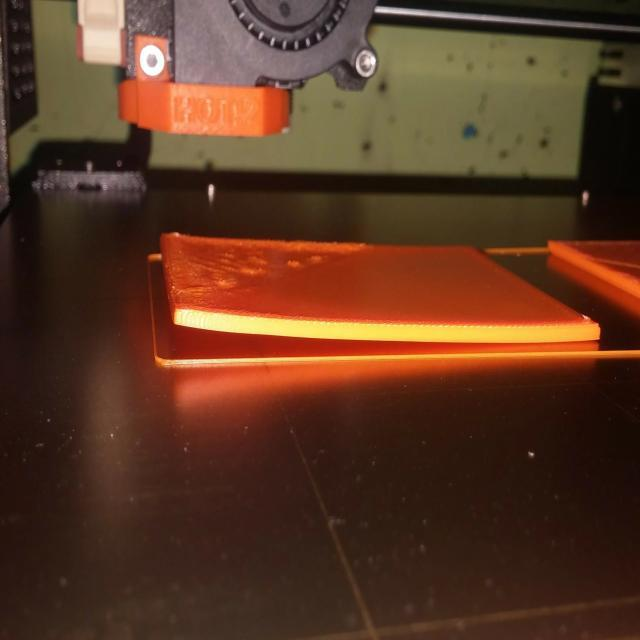Warping: (134, 279, 306, 349)
